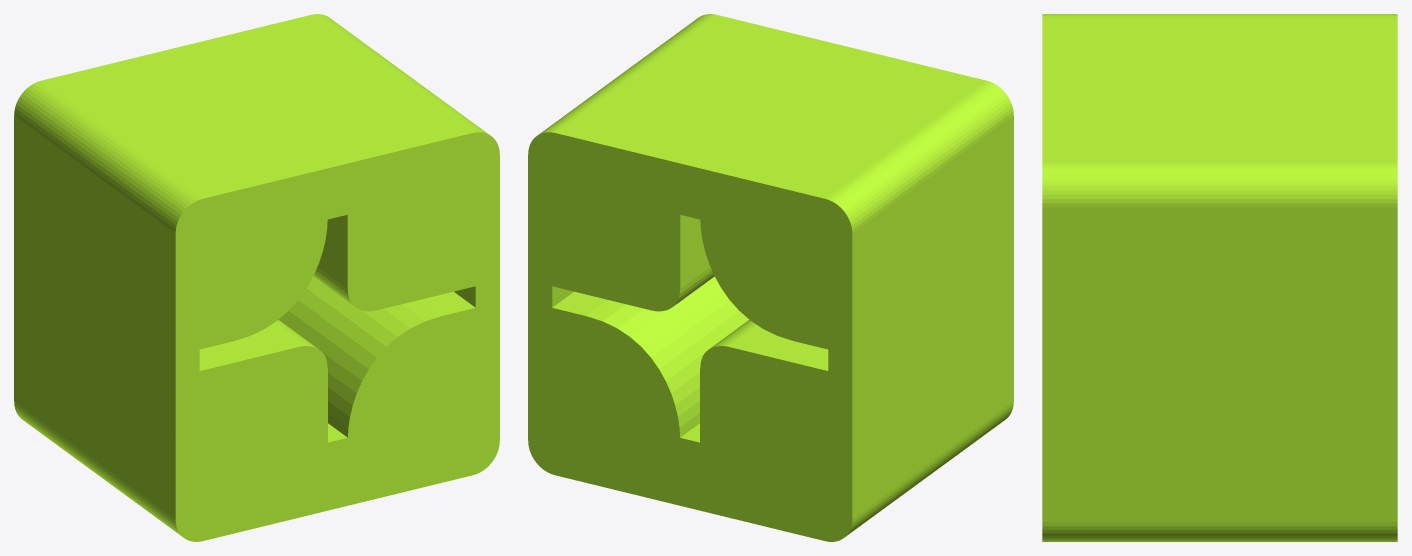
The model's file is boxy-icon-3d.glb.
3 views of the same model, side by side, from view 1: azimuth 30°, elevation 25°; view 2: azimuth 150°, elevation 25°; view 3: azimuth 270°, elevation 25° (orthographic). The views are drawn at different scales.
Visible parts, largest first — view 1: Curve; view 2: Curve; view 3: Curve.
Part boxes in pixels (x1,y1,x2,y2): Curve: (14, 14, 499, 541); Curve: (528, 14, 1013, 541); Curve: (1042, 14, 1397, 541).
Bounding box in the file's own units: 0.4827 × 0.487 × 0.4164.
